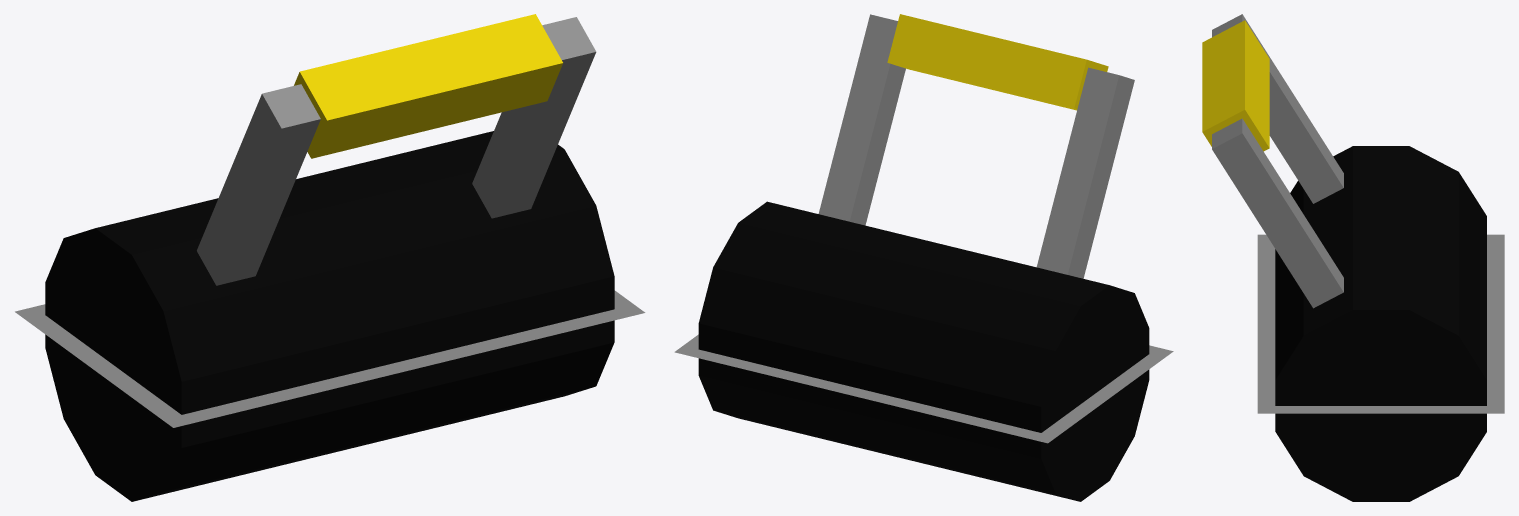
The model's file is flight_lever.obj.
3 renders of one model, left to right at view 1: azimuth 30°, elevation 25°; view 2: azimuth 150°, elevation 25°; view 3: azimuth 270°, elevation 25°, orthographic. The views are drawn at different scales.
Parts seen in each view (by area): view 1: cylinder, handle_two, handle_three, handle_four, handle_one, plane; view 2: cylinder, handle_two, handle_one, plane, handle_three, handle_four; view 3: cylinder, handle_one, plane, handle_two, handle_four, handle_three.
Boxes of the visible parts, left/top/right/bottom form: cylinder: left=45, top=131, right=614, bottom=501; handle_two: left=197, top=84, right=320, bottom=285; handle_three: left=294, top=43, right=444, bottom=158; handle_four: left=418, top=14, right=562, bottom=129; handle_one: left=472, top=17, right=596, bottom=218; plane: left=15, top=290, right=645, bottom=427; cylinder: left=698, top=201, right=1149, bottom=501; handle_two: left=1036, top=67, right=1134, bottom=278; handle_one: left=818, top=14, right=905, bottom=225; plane: left=674, top=334, right=1173, bottom=443; handle_three: left=981, top=37, right=1108, bottom=110; handle_four: left=887, top=14, right=1000, bottom=91; cylinder: left=1275, top=146, right=1486, bottom=501; handle_one: left=1212, top=118, right=1343, bottom=308; plane: left=1257, top=234, right=1504, bottom=413; handle_two: left=1212, top=14, right=1343, bottom=203; handle_four: left=1202, top=65, right=1269, bottom=151; handle_three: left=1202, top=20, right=1269, bottom=102.
Size of the model in its own units: 0.75 by 0.694 by 0.5358.
